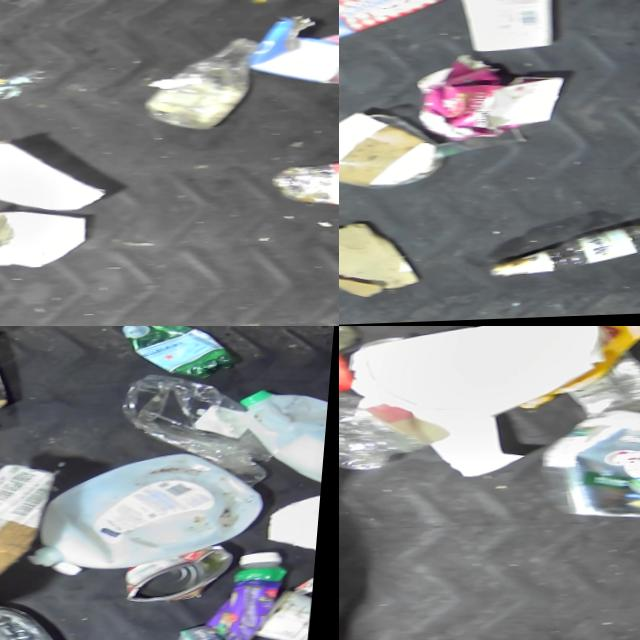milk_jug: (24, 447, 271, 579), (226, 387, 332, 494)
non_white_jug: (416, 53, 575, 147)
plastic_bottle: (339, 370, 442, 479), (174, 553, 294, 640), (271, 161, 339, 214)
